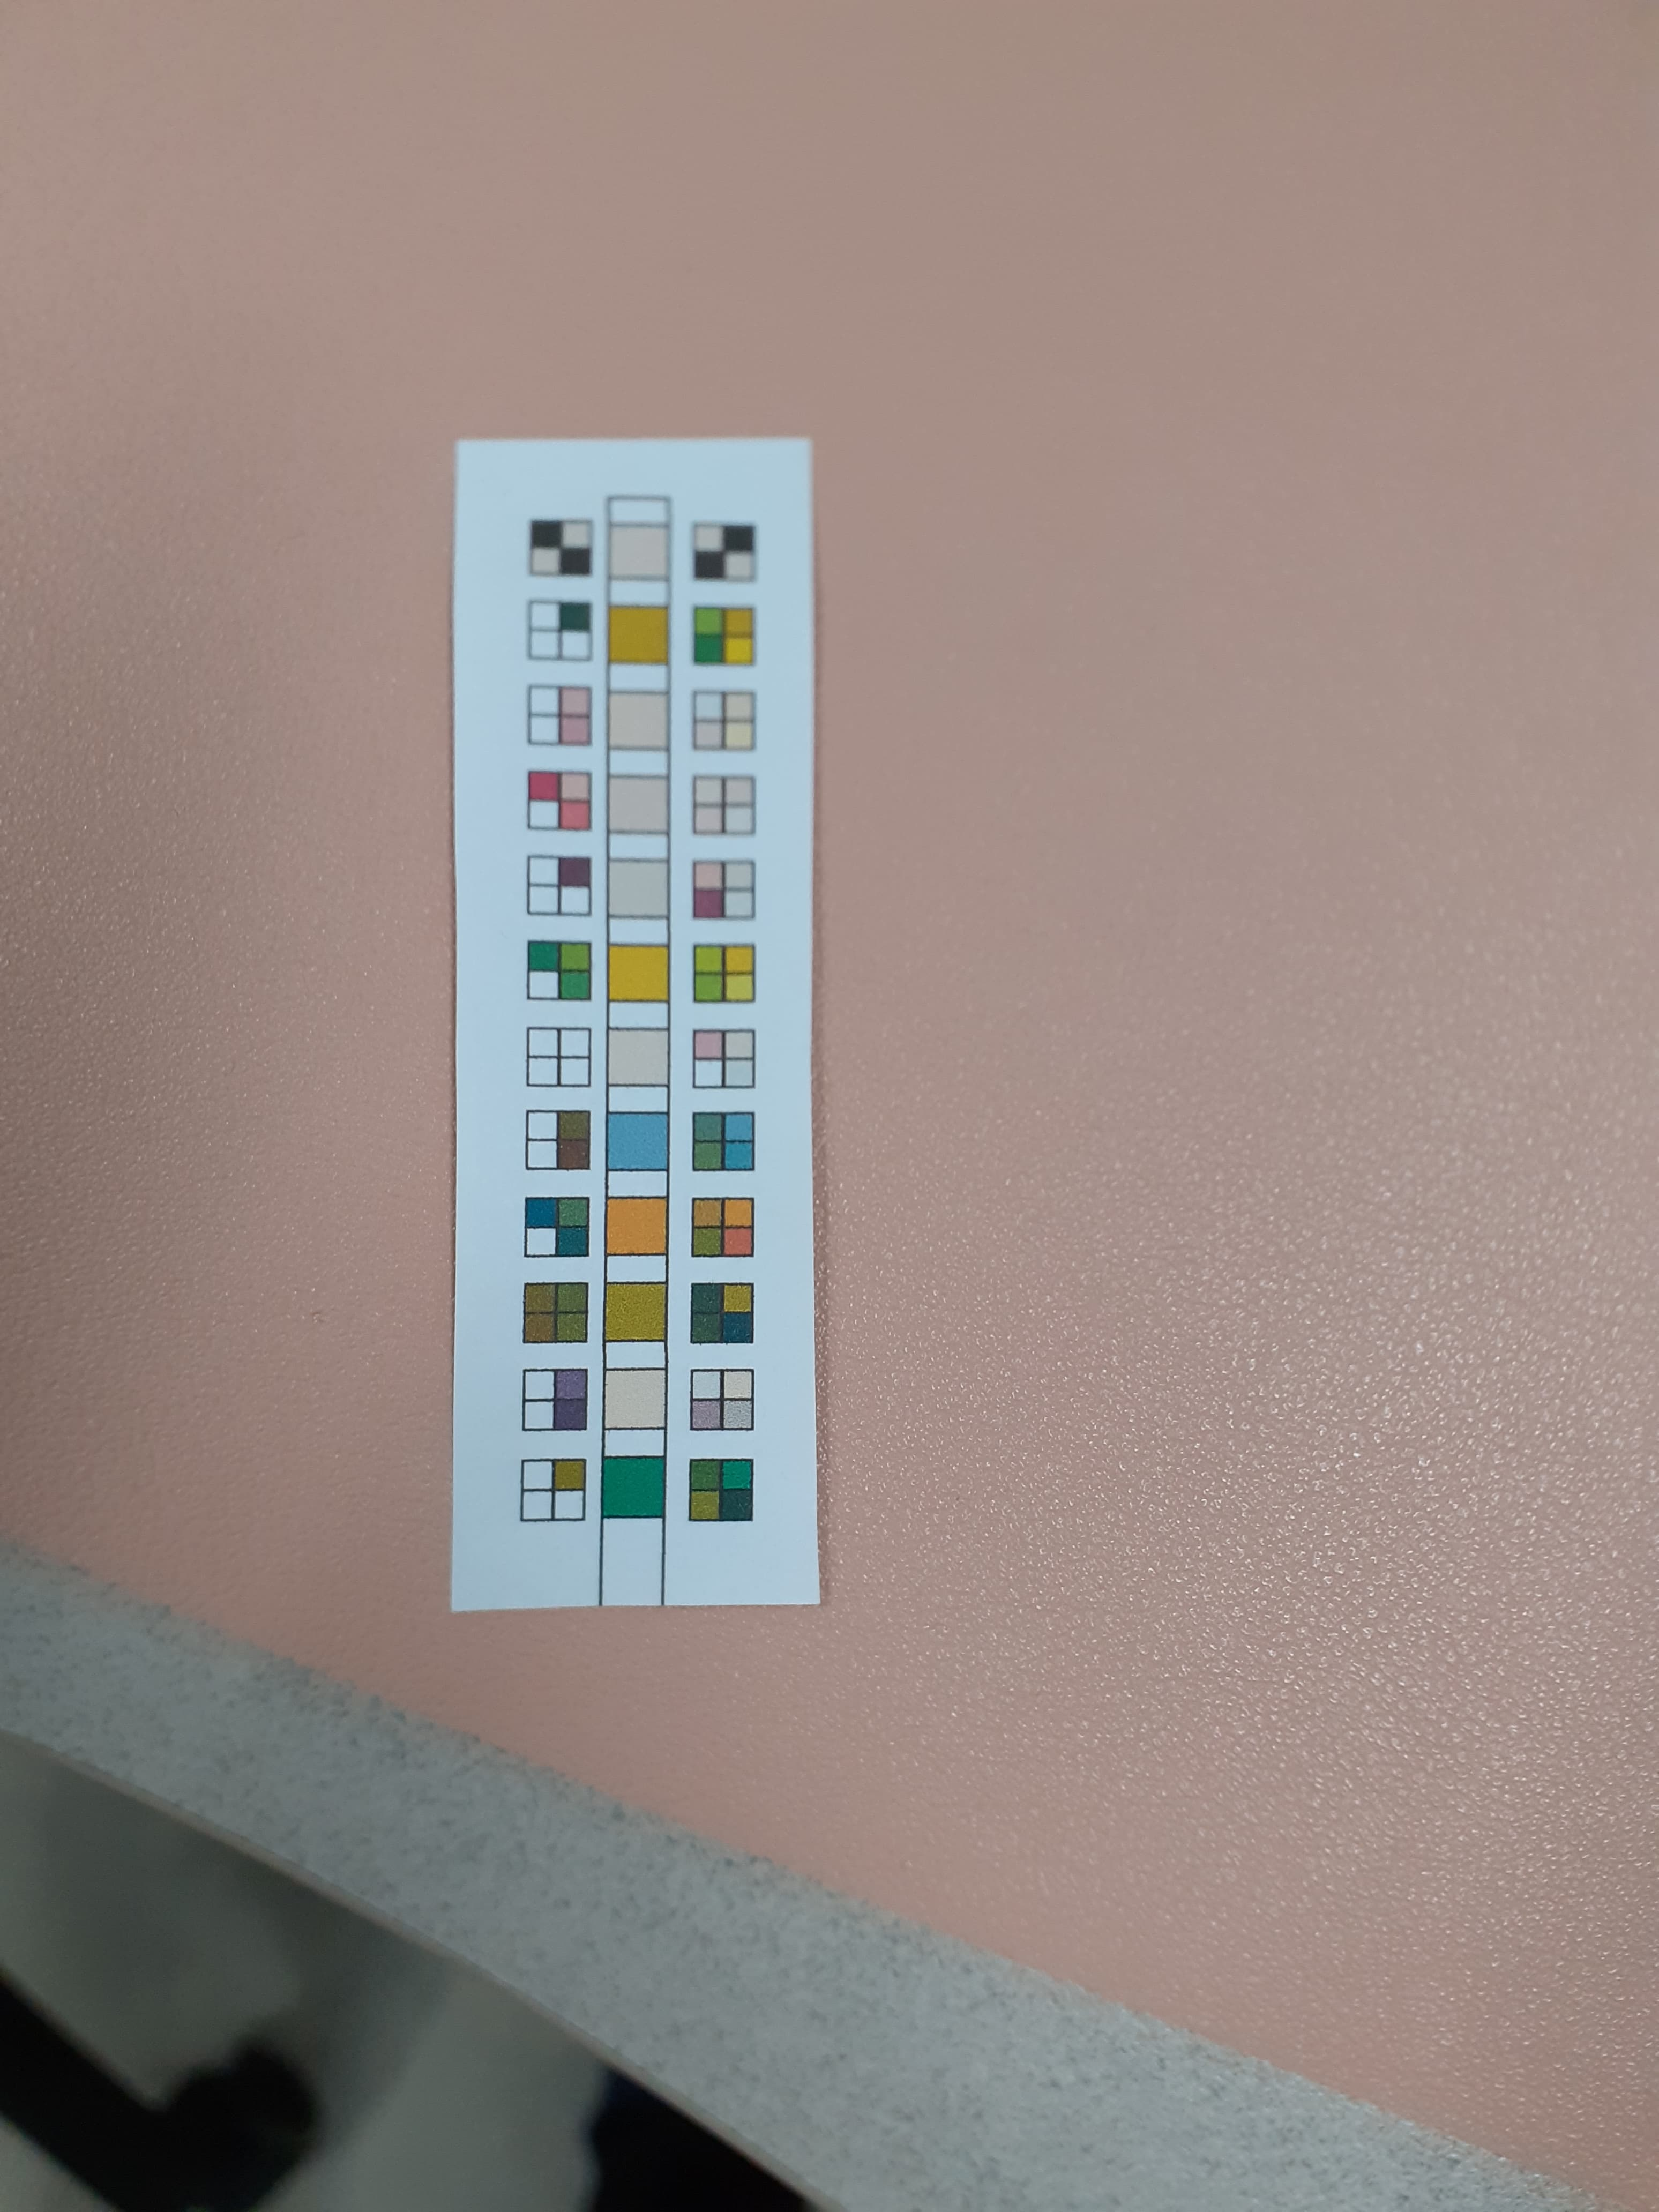tester: (451, 435, 824, 1613)
